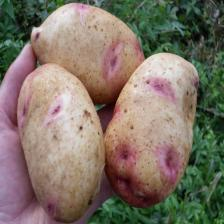Diseased-fungal potato: (104, 52, 198, 207), (18, 64, 105, 224), (31, 3, 149, 105)
